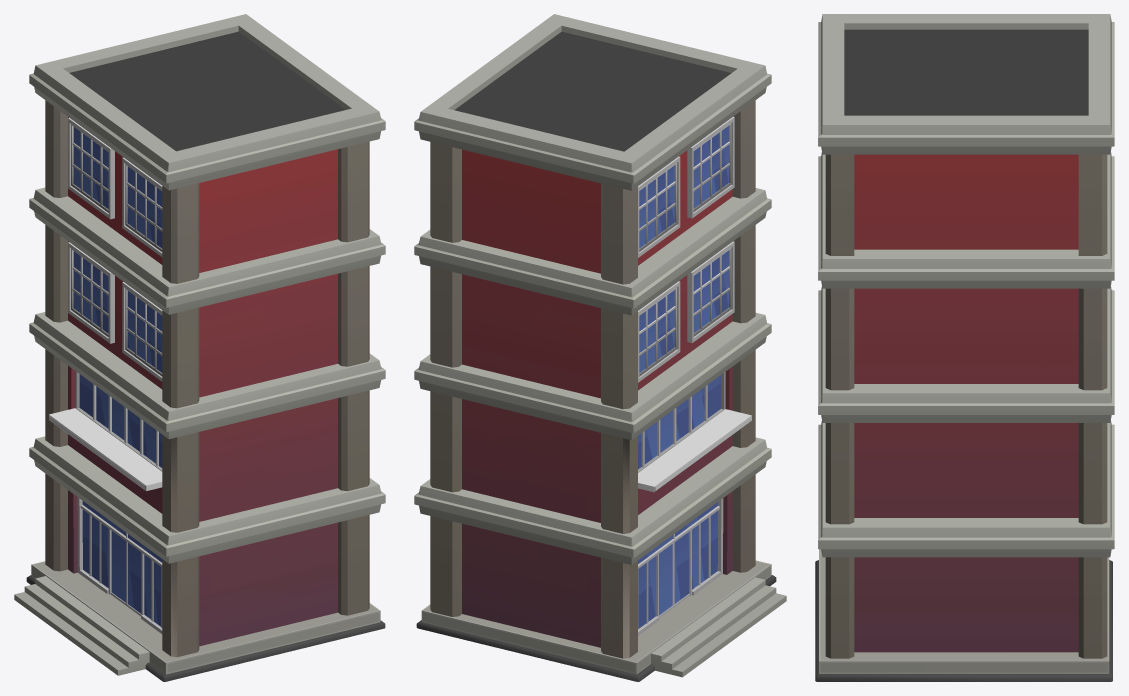
Rendered from Building_9_1_OO.fbx.
The picture shows the model from 3 angles, left to right: view 1: azimuth 30°, elevation 25°; view 2: azimuth 150°, elevation 25°; view 3: azimuth 270°, elevation 25°; orthographic projection. The views are drawn at different scales.
Parts seen in each view (by area): view 1: Building_9_1_OO; view 2: Building_9_1_OO; view 3: Building_9_1_OO.
Boxes of the visible parts, x1=… form: Building_9_1_OO: x1=14, y1=14, x2=385, y2=681; Building_9_1_OO: x1=414, y1=14, x2=786, y2=681; Building_9_1_OO: x1=815, y1=14, x2=1114, y2=681.
Size of the model in its own units: 947 by 1855 by 906.
